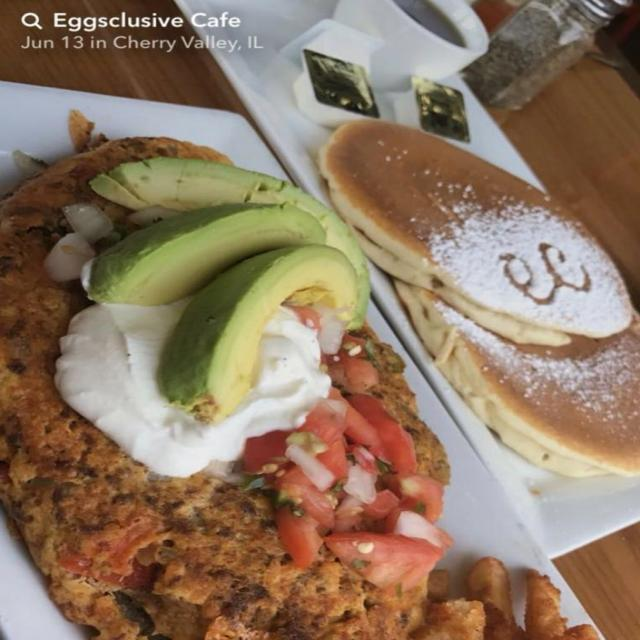French Fries: (438, 539, 594, 639)
Omelette: (5, 114, 431, 638)
Pancakes: (327, 113, 639, 490)
